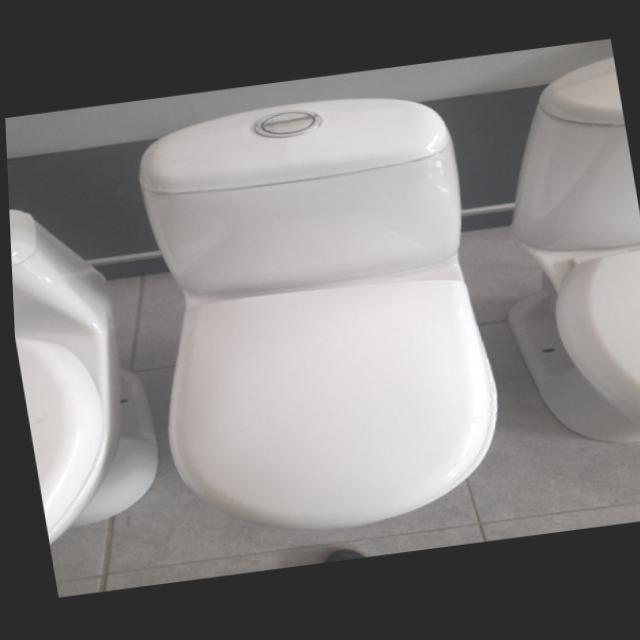toilet: (112, 82, 515, 549), (467, 54, 640, 461), (7, 189, 169, 543)
